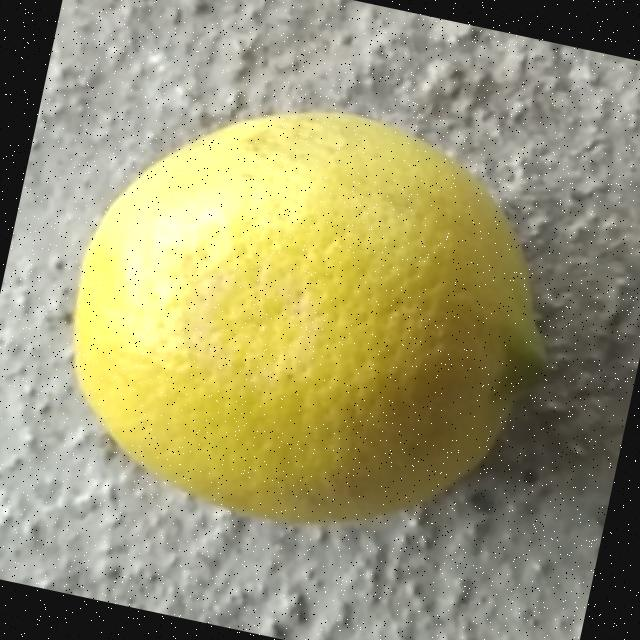Ripe: (25, 54, 604, 582)
